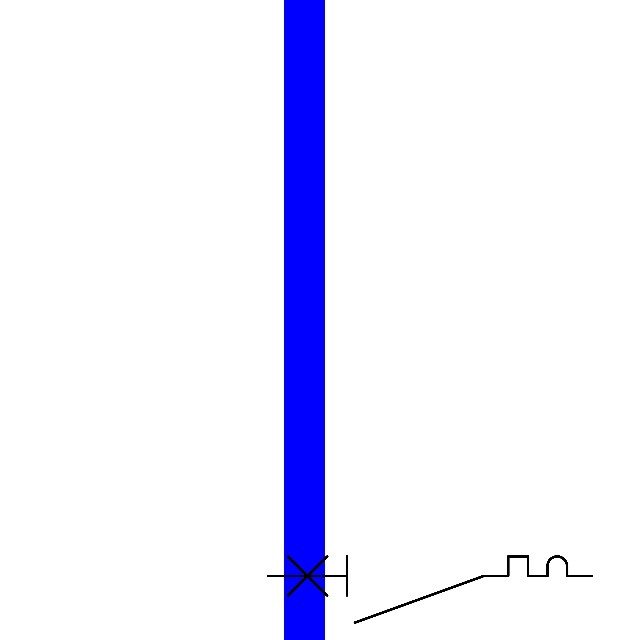interruptor_termomagnetico: (260, 548, 600, 631)
